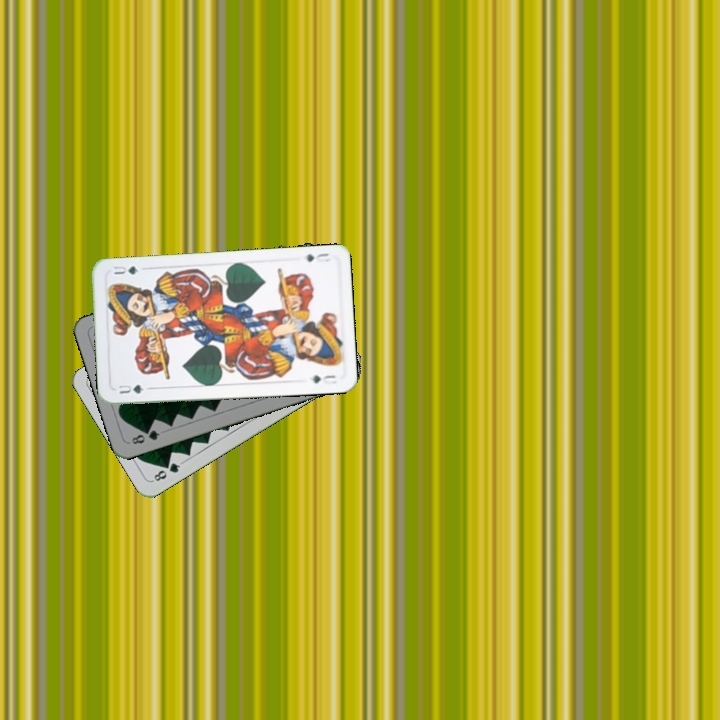G8: (148, 458, 185, 484), (127, 426, 163, 447)
GU: (114, 380, 146, 396), (302, 249, 333, 265)
